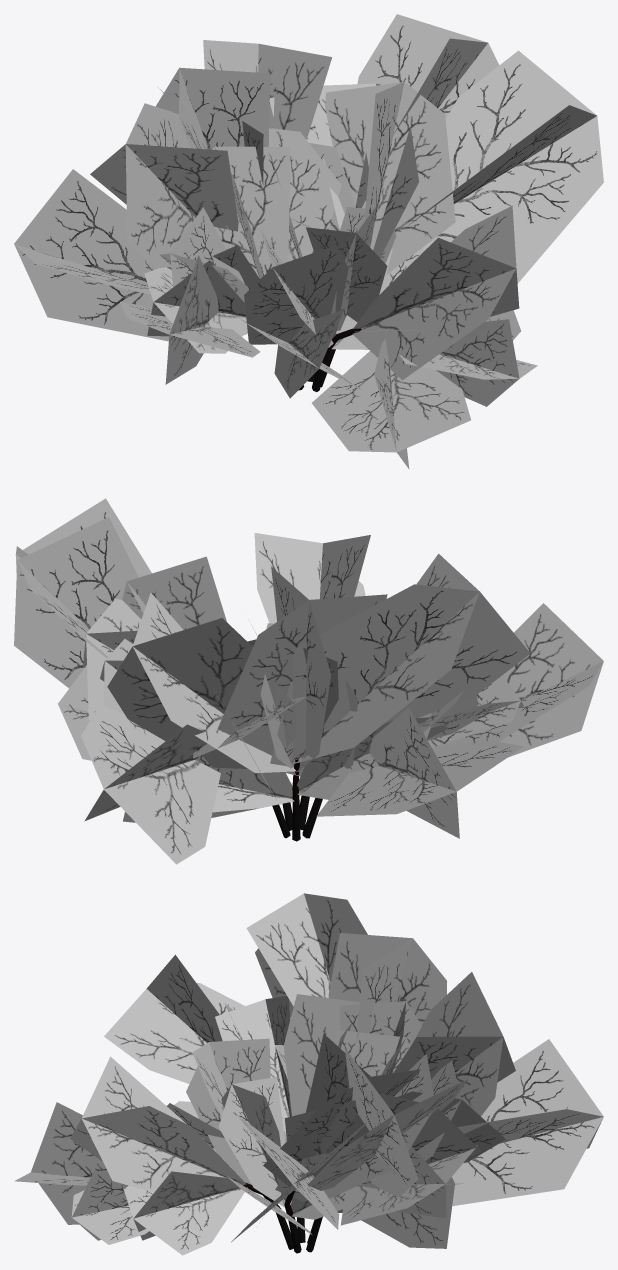
File: Bush_A_04.fbx
3 renders of one model, top to bottom at view 1: azimuth 30°, elevation 25°; view 2: azimuth 150°, elevation 25°; view 3: azimuth 270°, elevation 25°, orthographic. The views are drawn at different scales.
Parts seen in each view (by area): view 1: Bush_A_04_LOD0; view 2: Bush_A_04_LOD0; view 3: Bush_A_04_LOD0.
Boxes of the visible parts, x1,y1,x2,y2 form: Bush_A_04_LOD0: (14, 14, 603, 469); Bush_A_04_LOD0: (14, 498, 603, 864); Bush_A_04_LOD0: (14, 893, 603, 1255).
Size of what is drawn, in the model's own units: 643 by 347 by 653.
